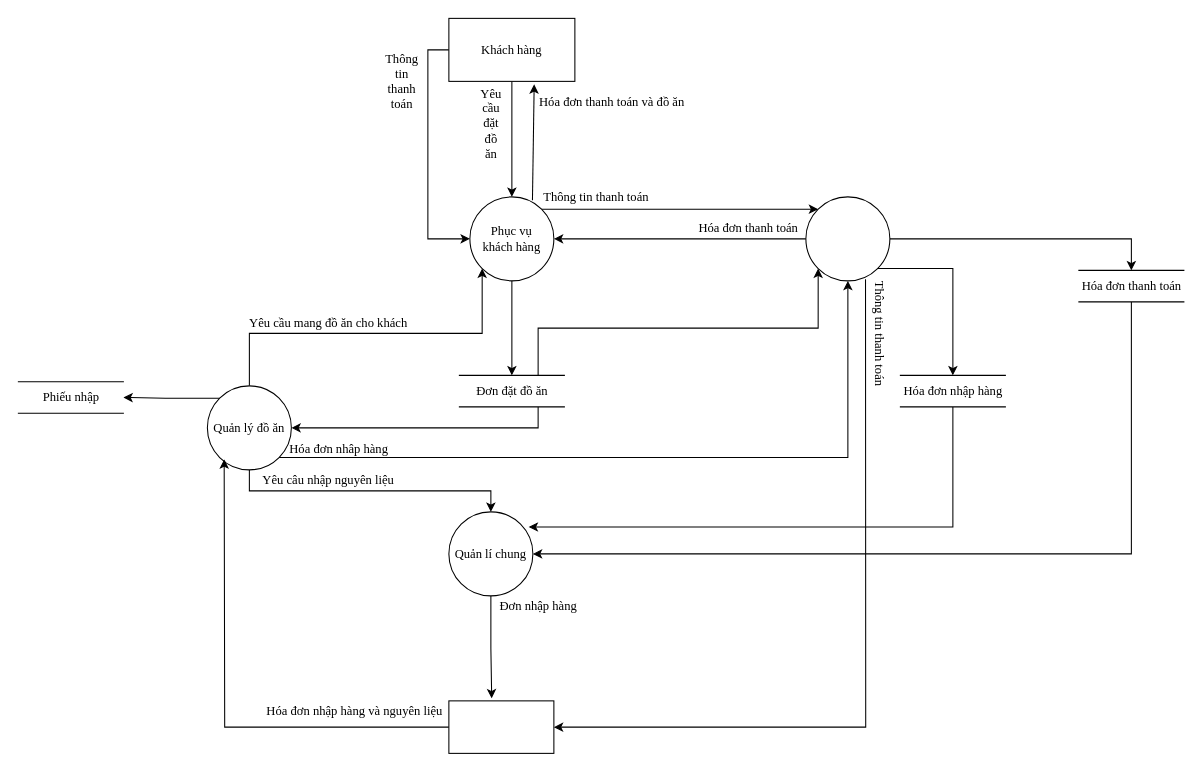
Some shapes in this 1202 by 772 pixel diagram are drawn without their labels. Here are the shapes that lost their labels. From the top down, the centre of each, then its label:
At (x=847, y=238): "Thanh toán".
At (x=501, y=726): "Nhà cung cấp".
